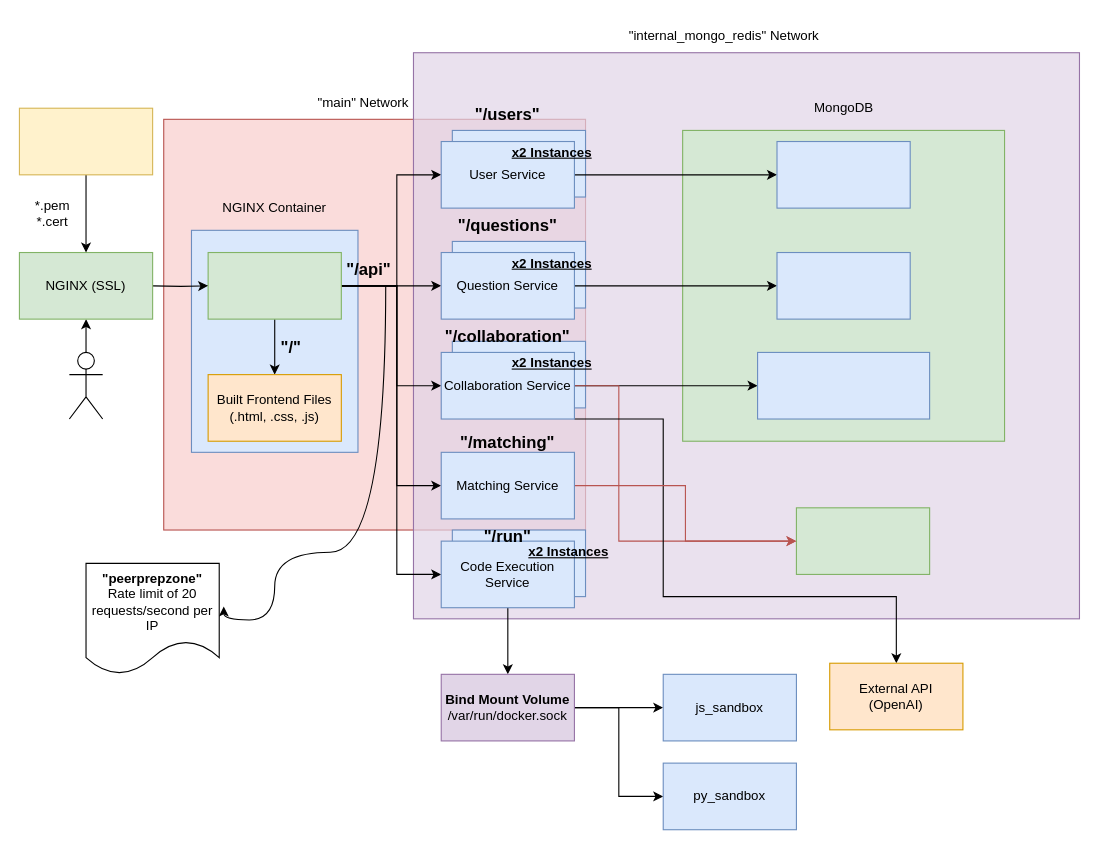
The diagram is 1099 pixels wide and 849 high, and some of its shapes have lost their labels. The centre of each missing label's shape, as x and y in pixels:
" collaboration_sessions " collection: (843,385)
" questions " collection: (843,285)
" users " collection: (843,174)
Cloudflare *.parkaholic.sg wildcard cert: (85,141)
NGINX (Load Balancer): (274,285)
Redis: (862,540)
User: (85,385)
